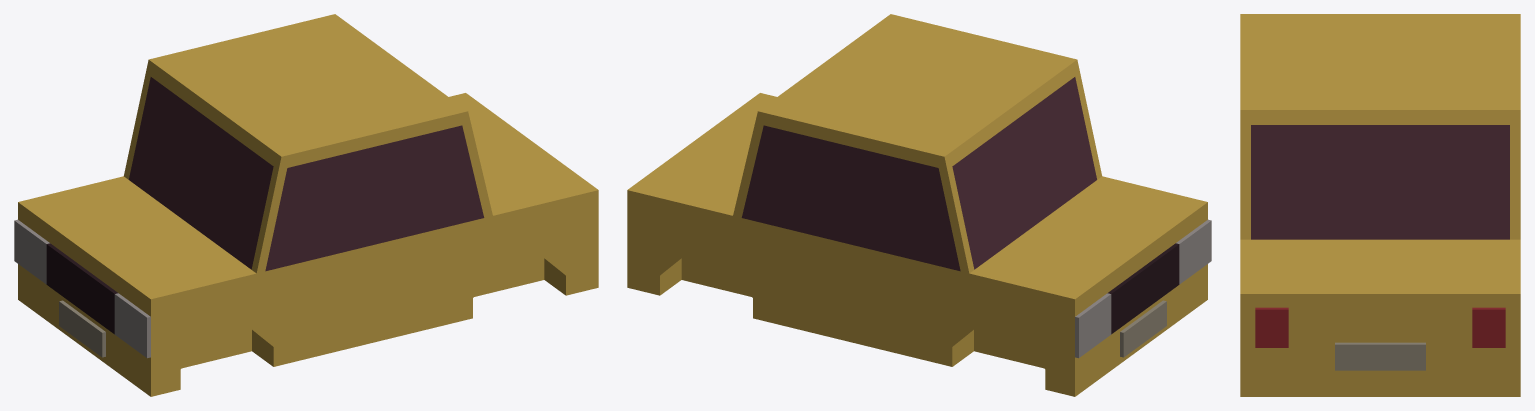
Rendered from Sedan_Yellow.fbx.
3 views of the same model, side by side, from view 1: azimuth 30°, elevation 25°; view 2: azimuth 150°, elevation 25°; view 3: azimuth 270°, elevation 25° (orthographic). The views are drawn at different scales.
Visible parts, largest first — view 1: Sedan_Yellow, Sedan_Lights; view 2: Sedan_Yellow, Sedan_Lights; view 3: Sedan_Yellow, Sedan_Lights.
Part boxes in pixels (x1=…): Sedan_Yellow: x1=18, y1=14, x2=598, y2=396; Sedan_Lights: x1=14, y1=219, x2=150, y2=358; Sedan_Yellow: x1=627, y1=14, x2=1207, y2=396; Sedan_Lights: x1=1075, y1=219, x2=1211, y2=358; Sedan_Yellow: x1=1240, y1=14, x2=1520, y2=396; Sedan_Lights: x1=1255, y1=307, x2=1505, y2=347.
Bounding box in the file's own units: 3.66 × 1.6 × 1.85.
